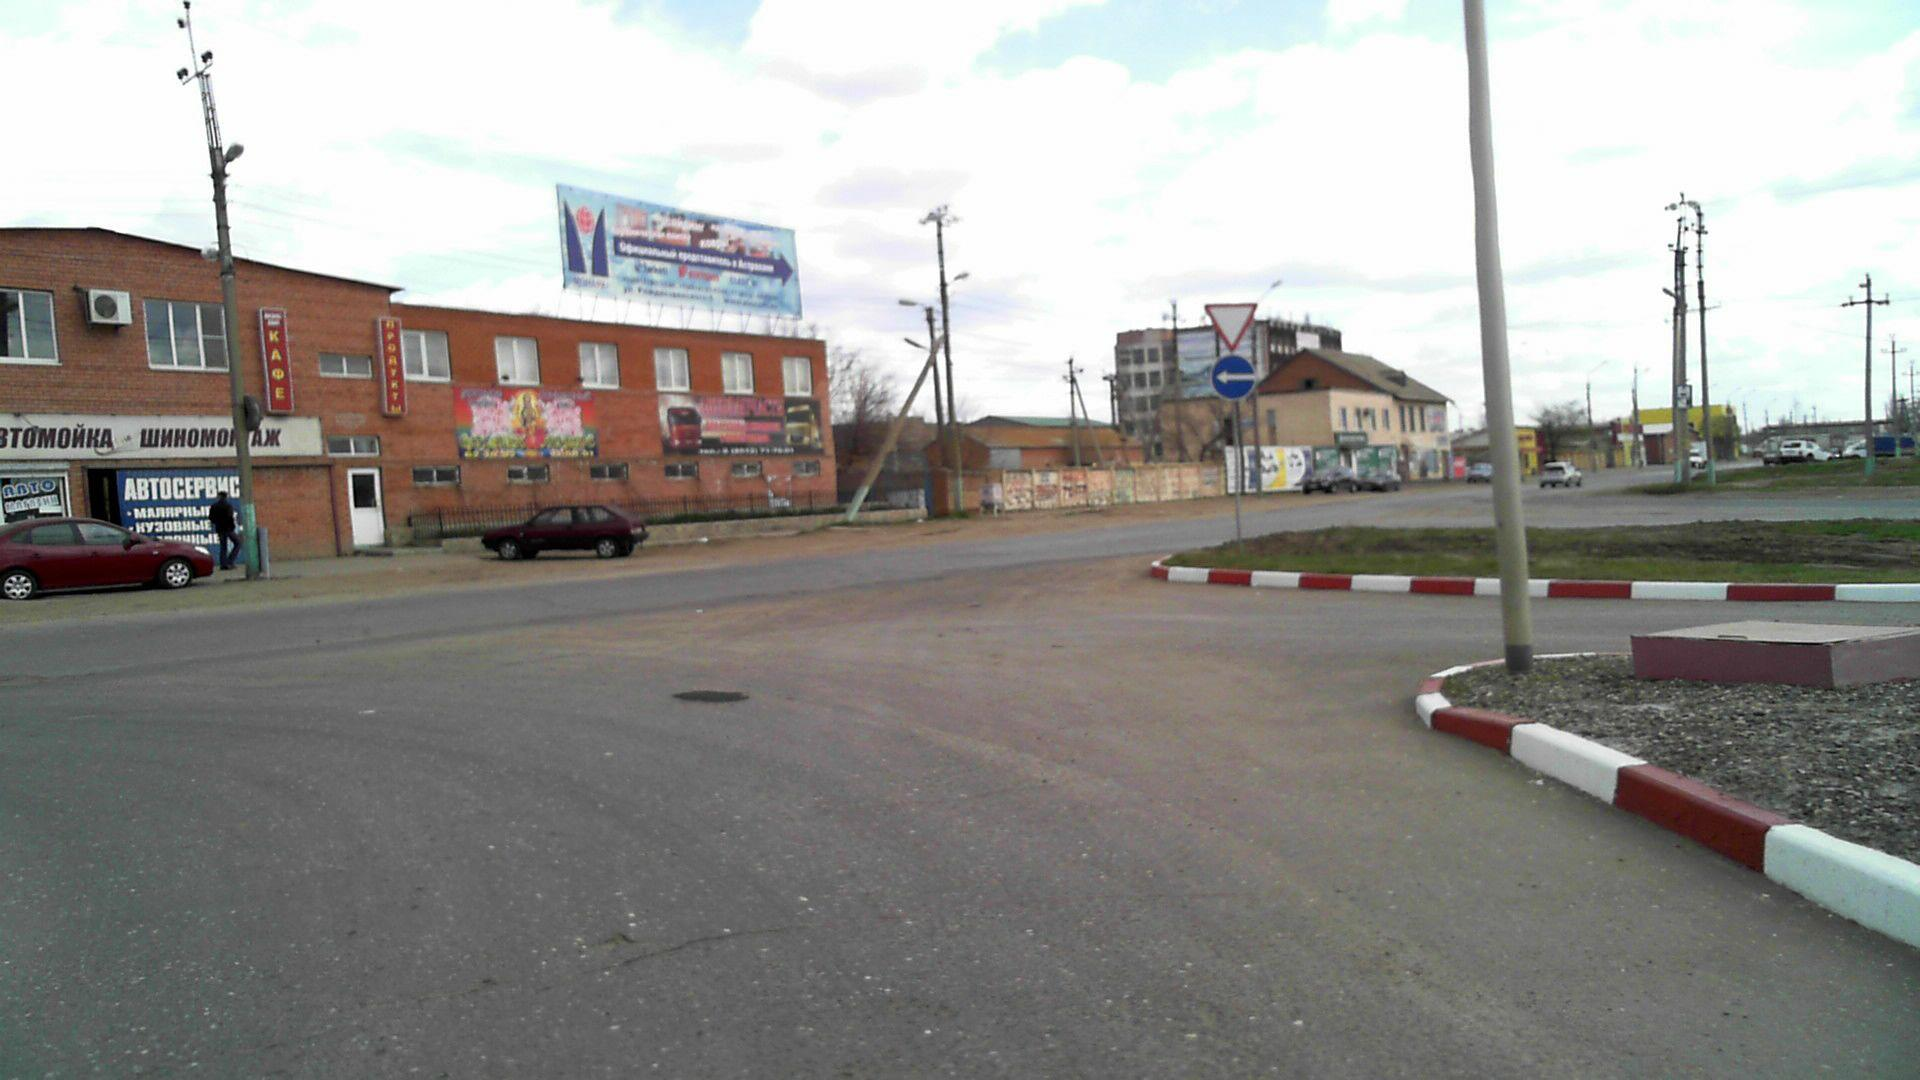2_4: (1200, 301, 1258, 352)
4_2_2: (1208, 353, 1255, 404)
